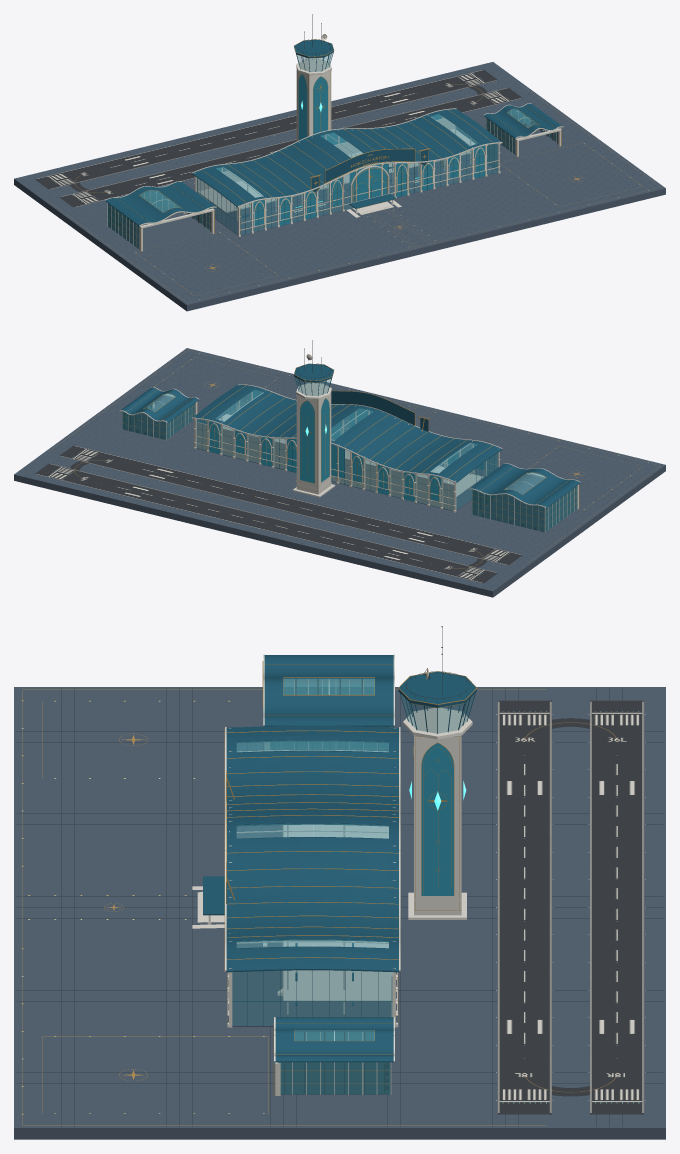
The model's file is Horizon.glb.
3 views of the same model, one above another, from view 1: azimuth 30°, elevation 25°; view 2: azimuth 150°, elevation 25°; view 3: azimuth 270°, elevation 25° (orthographic). The views are drawn at different scales.
Visible parts, largest first — view 1: GW Paving, GW Teal, GW Filtered Runway Surface, GW Ivory, GW Glass Dark, GW Terminal Tint, GW Gold, GW Hangar Glass, GW Glass Highlight, GW Glass; view 2: GW Paving, GW Teal, GW Filtered Runway Surface, GW Ivory, GW Glass Dark, GW Hangar Glass, GW Terminal Tint, GW Gold, GW Glass Highlight, GW Glass; view 3: GW Paving, GW Teal, GW Filtered Runway Surface, GW Ivory, GW Gold, GW Terminal Tint, GW Glass Highlight, GW Joint, GW Hangar Glass, GW Glass Dark, GW Glass.
Boxes of the visible parts, <box> form: GW Paving: <box>14,62,665,311</box>; GW Teal: <box>105,39,561,233</box>; GW Filtered Runway Surface: <box>35,69,522,207</box>; GW Ivory: <box>104,34,563,251</box>; GW Glass Dark: <box>216,74,485,225</box>; GW Terminal Tint: <box>196,126,497,235</box>; GW Gold: <box>50,34,660,300</box>; GW Hangar Glass: <box>108,109,559,248</box>; GW Glass Highlight: <box>139,109,538,212</box>; GW Glass: <box>253,53,458,231</box>; GW Paving: <box>14,348,665,597</box>; GW Teal: <box>121,364,580,507</box>; GW Filtered Runway Surface: <box>35,445,522,583</box>; GW Ivory: <box>119,354,580,532</box>; GW Glass Dark: <box>209,390,484,501</box>; GW Hangar Glass: <box>122,403,577,532</box>; GW Terminal Tint: <box>196,393,497,510</box>; GW Gold: <box>52,353,652,566</box>; GW Glass Highlight: <box>144,389,545,494</box>; GW Glass: <box>235,377,440,507</box>; GW Paving: <box>14,687,665,1139</box>; GW Teal: <box>203,655,476,1062</box>; GW Filtered Runway Surface: <box>497,700,644,1114</box>; GW Ivory: <box>192,654,472,1095</box>; GW Gold: <box>21,661,545,1125</box>; GW Terminal Tint: <box>232,742,392,1025</box>; GW Glass Highlight: <box>236,678,388,1040</box>; GW Joint: <box>16,688,663,1126</box>; GW Hangar Glass: <box>270,679,390,1094</box>; GW Glass Dark: <box>421,742,453,895</box>; GW Glass: <box>401,694,474,733</box>.
Size of the model in its own units: 960 by 297 by 600.
Materials: 14 (1 with a texture image).
